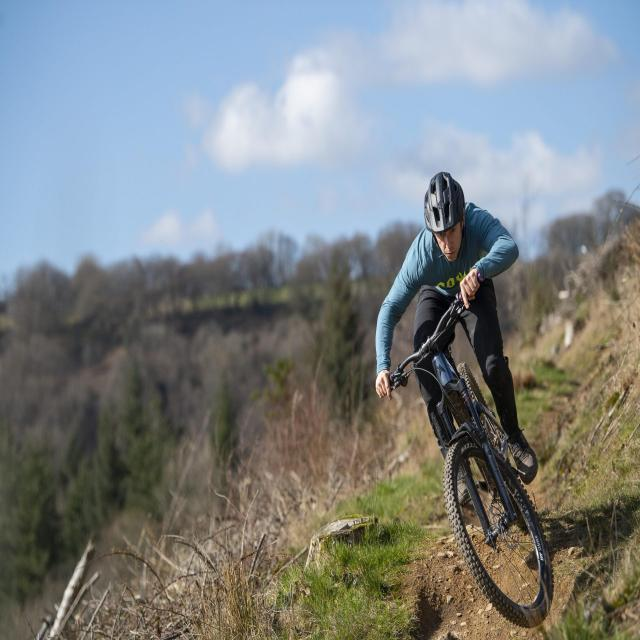bike: (379, 290, 554, 629)
